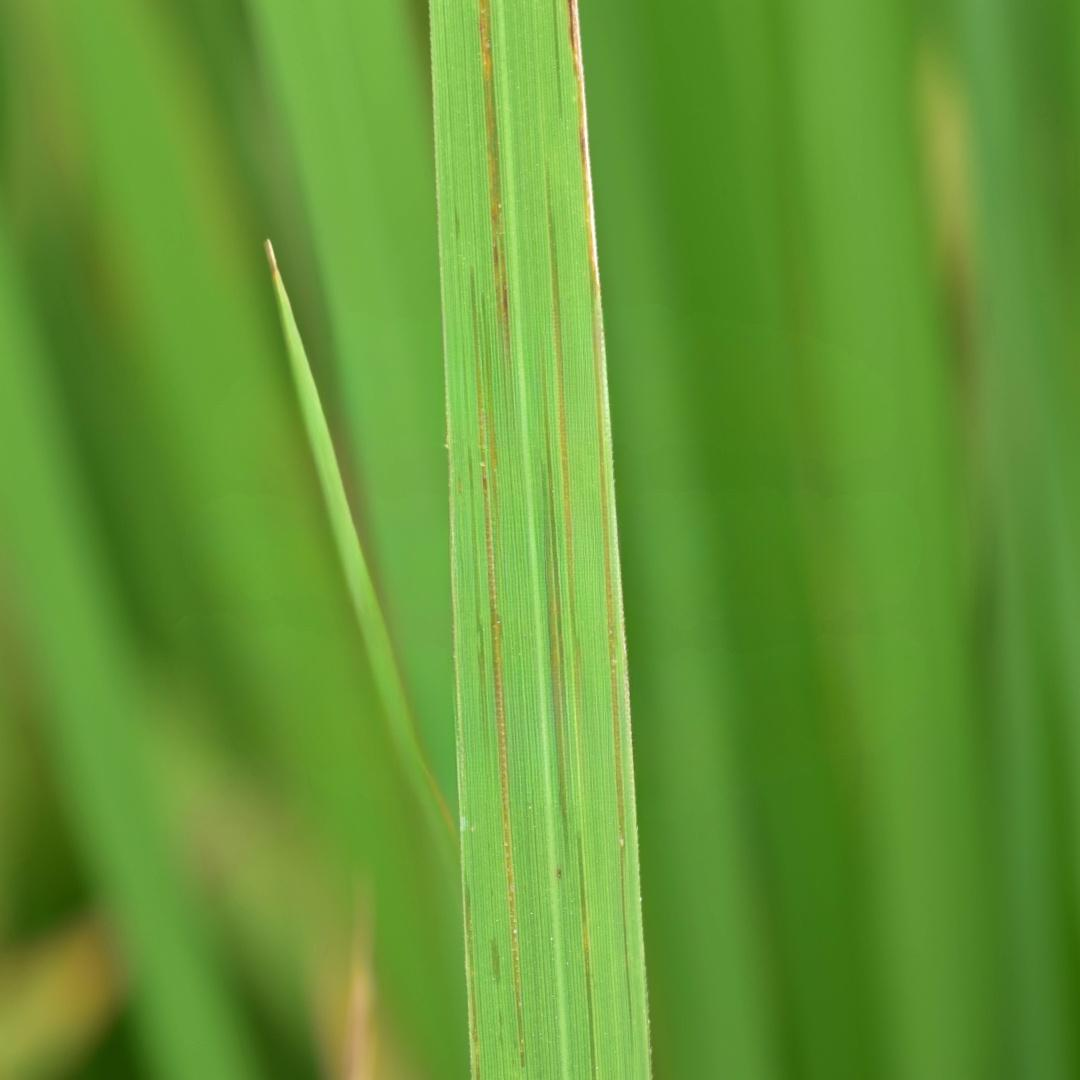BLS: (566, 0, 632, 1063), (470, 266, 525, 1067), (545, 169, 581, 739), (540, 355, 568, 874), (479, 0, 511, 368), (468, 446, 489, 777), (481, 294, 500, 593), (577, 832, 596, 1079), (464, 871, 480, 1079)
LEAF: (431, 0, 648, 1079)
